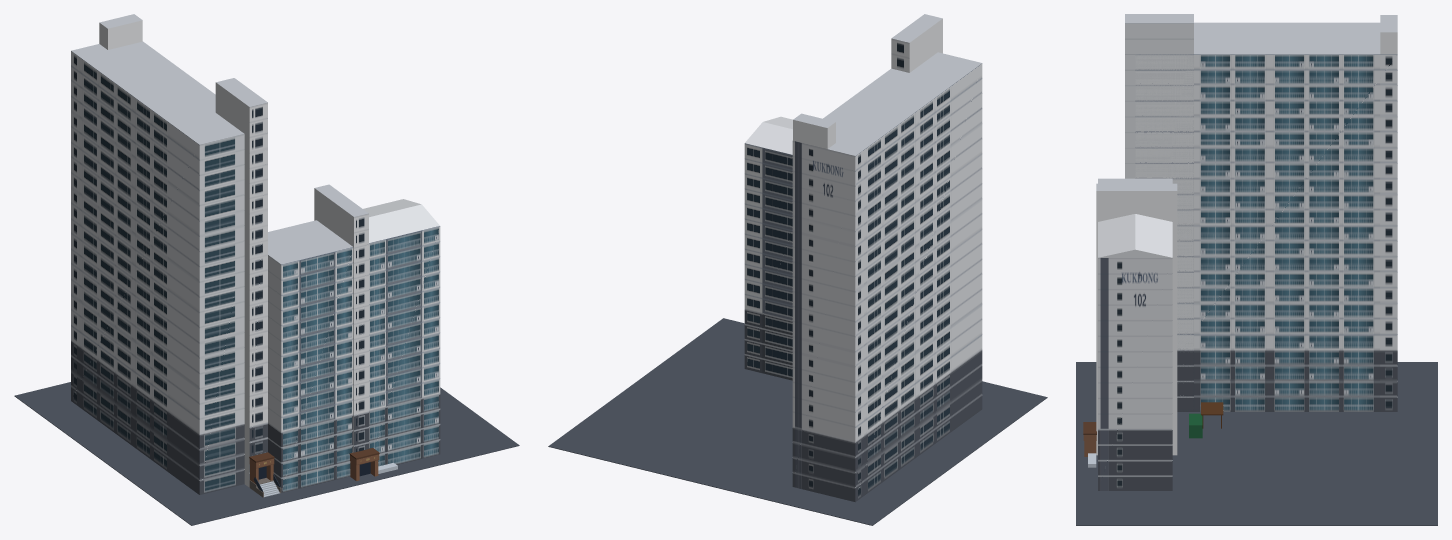
Rendered from place_극미102.glb.
3 views of the same model, side by side, from view 1: azimuth 30°, elevation 25°; view 2: azimuth 150°, elevation 25°; view 3: azimuth 270°, elevation 25° (orthographic). The views are drawn at different scales.
Visible parts, largest first — view 1: KukdongMiraju_102; view 2: KukdongMiraju_102; view 3: KukdongMiraju_102.
Boxes of the visible parts, <box> form: KukdongMiraju_102: <box>14,14,519,525</box>; KukdongMiraju_102: <box>548,14,1047,525</box>; KukdongMiraju_102: <box>1076,14,1437,525</box>.
Bounding box in the file's own units: 62 × 68.85 × 58.
Materials: 34 (17 with a texture image).
